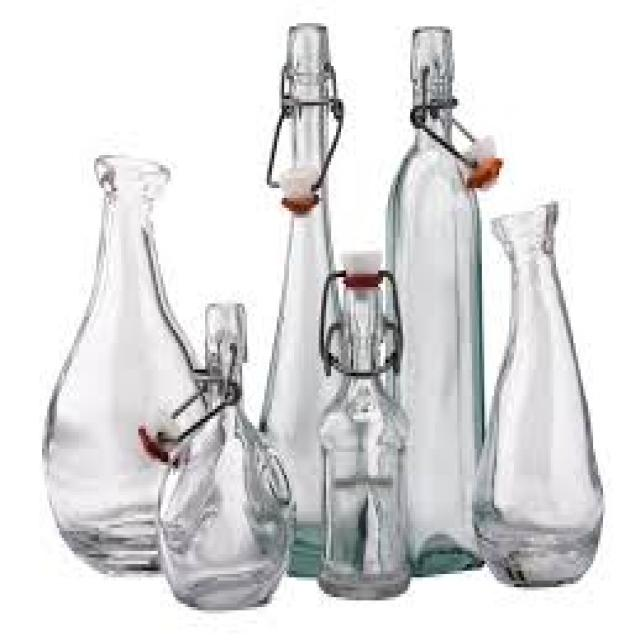Glass-Non-Biodegradable but Recyclable-: (39, 157, 298, 614), (471, 203, 609, 595), (311, 255, 415, 602)
